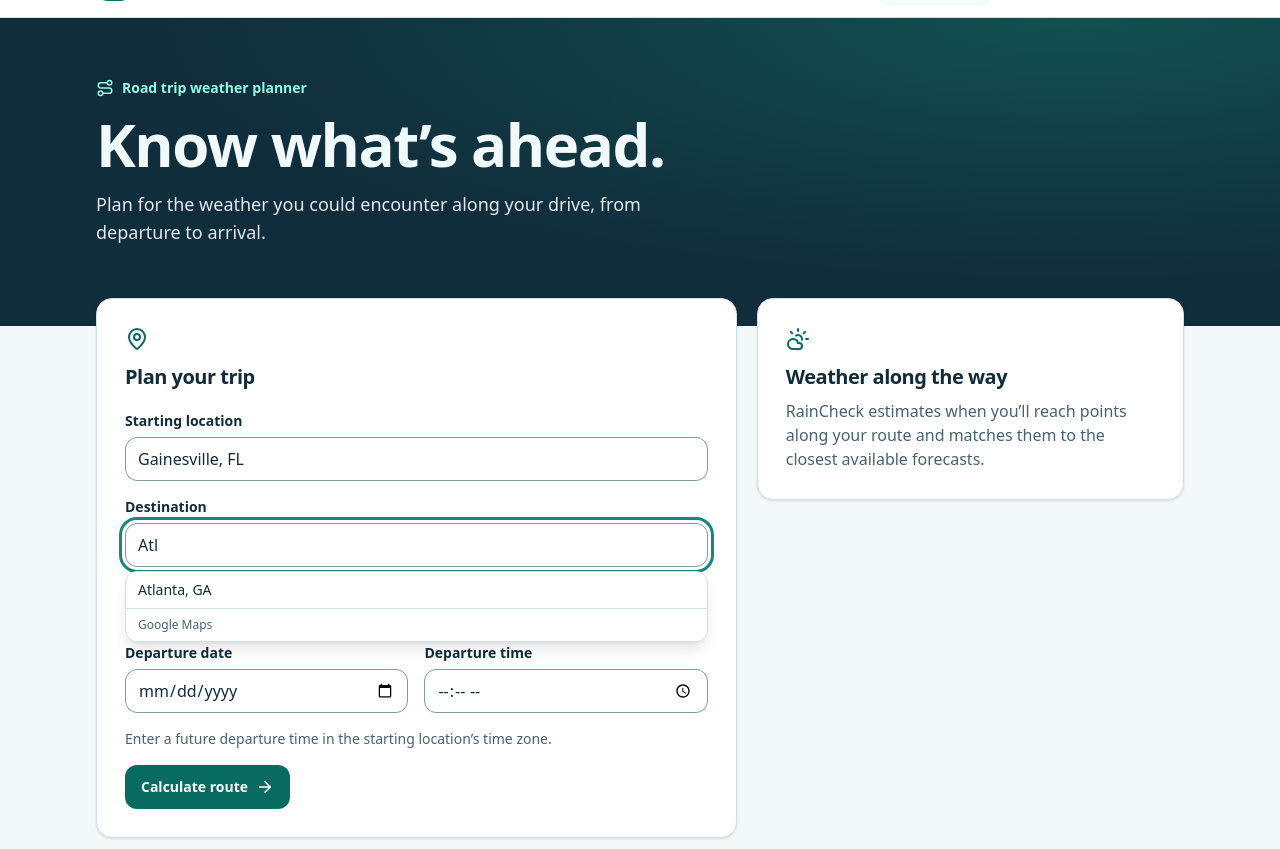
Test: submits selected places and a local departure, then displays and edits the route
Earlier steps of the test are not shown.
Later steps or results of the test are not shown.
Step 1. Click the option "Atlanta, GA" → (175, 590), box [126, 572, 707, 609]
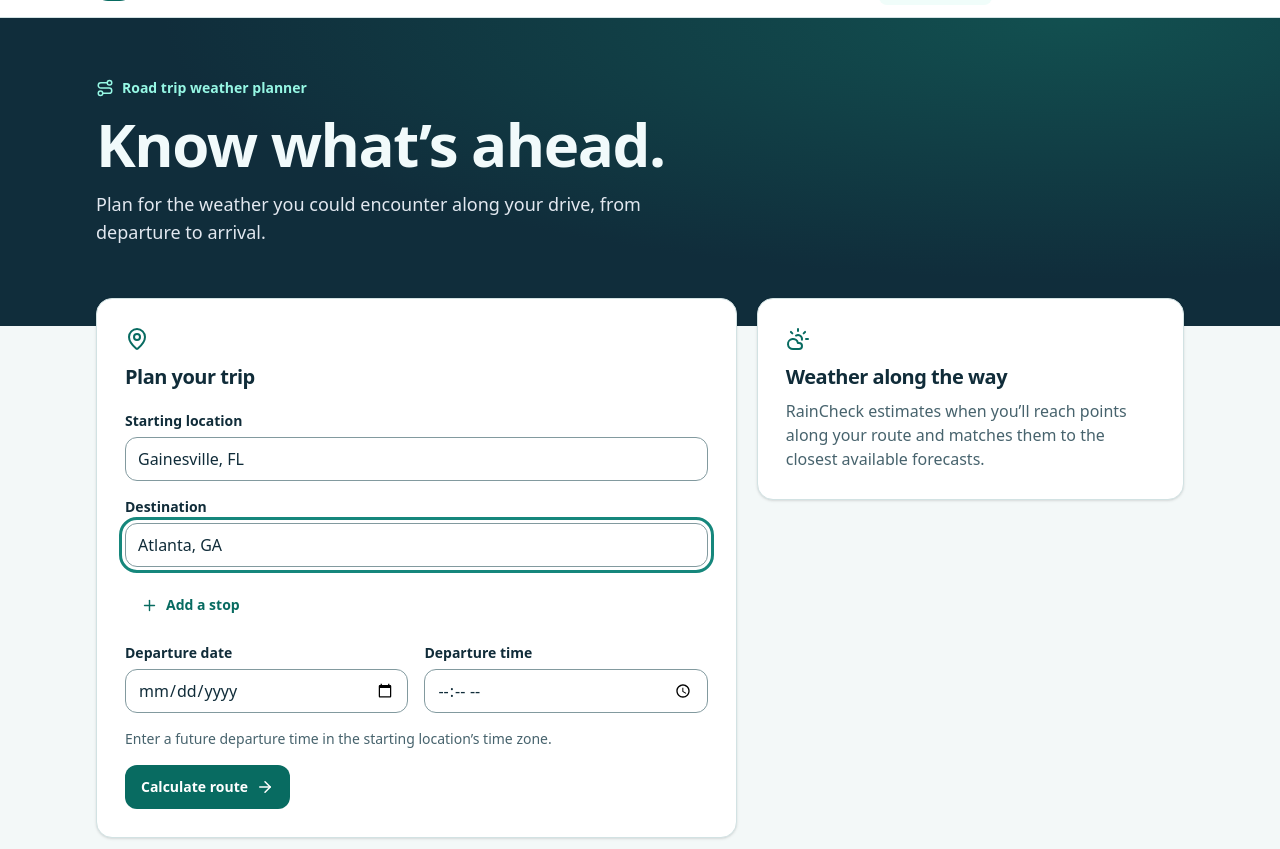
Now the dropdown labelled "Destination" holds "Atlanta, GA", box [125, 523, 708, 567]
Step 2. Type "2030-06-15" into the date field labelled "Departure date" → (267, 691), box [125, 669, 408, 713]
Step 3. Type "23:30" into the time field labelled "Departure time" → (566, 691), box [424, 669, 708, 713]
Step 4. Click the button "Add a stop" → (190, 605), box [125, 583, 256, 627]
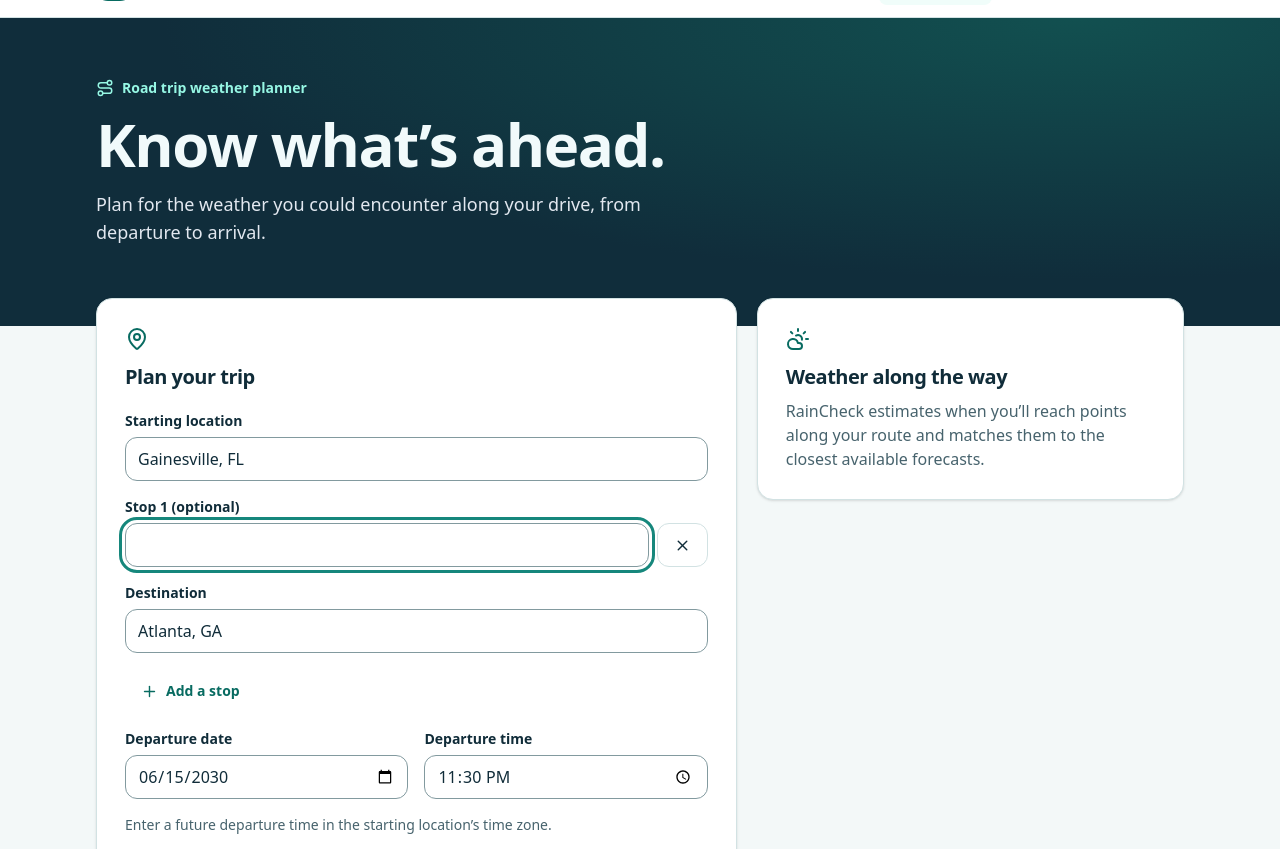
Step 5. Click the button named "Remove stop 1" → (682, 545), box [657, 523, 708, 567]
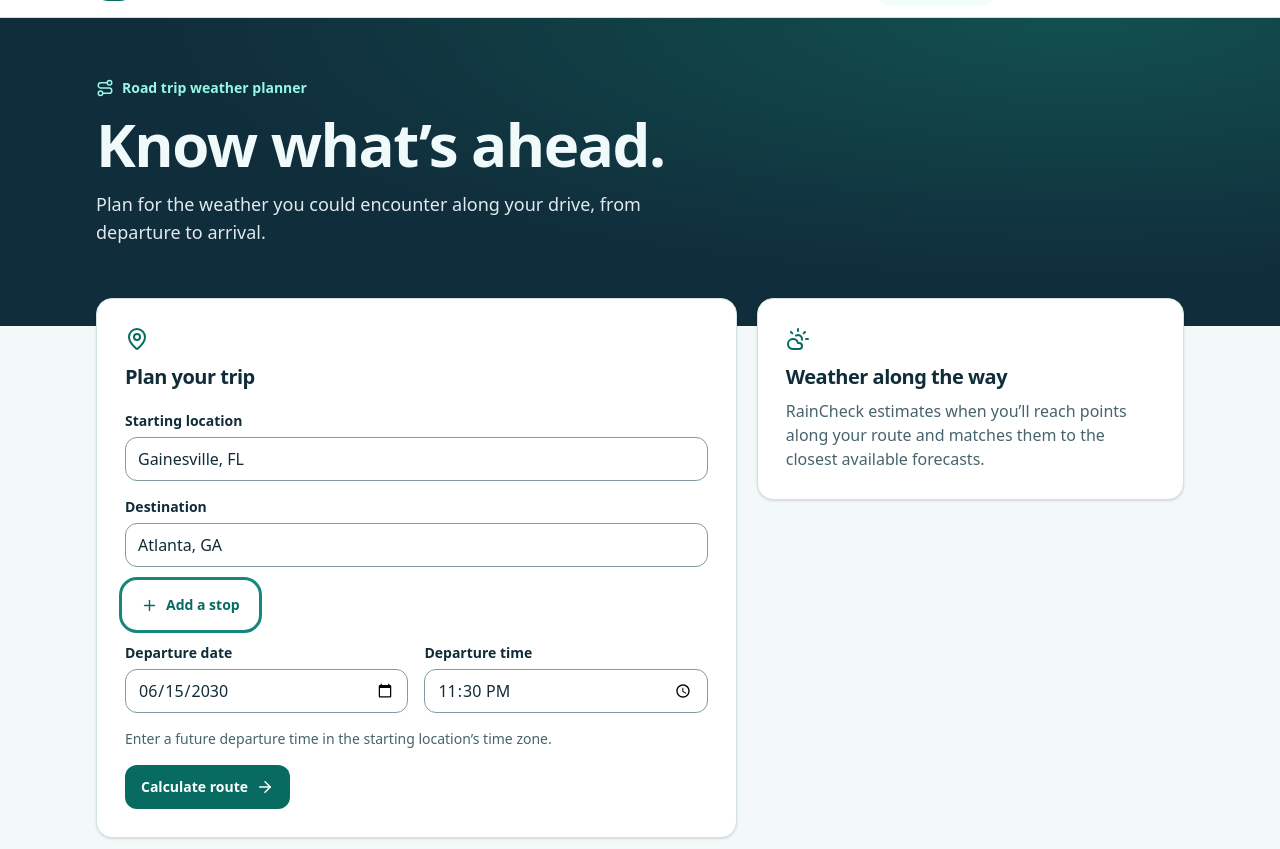
Step 6. Click the button "Add a stop" → (190, 605), box [125, 583, 256, 627]
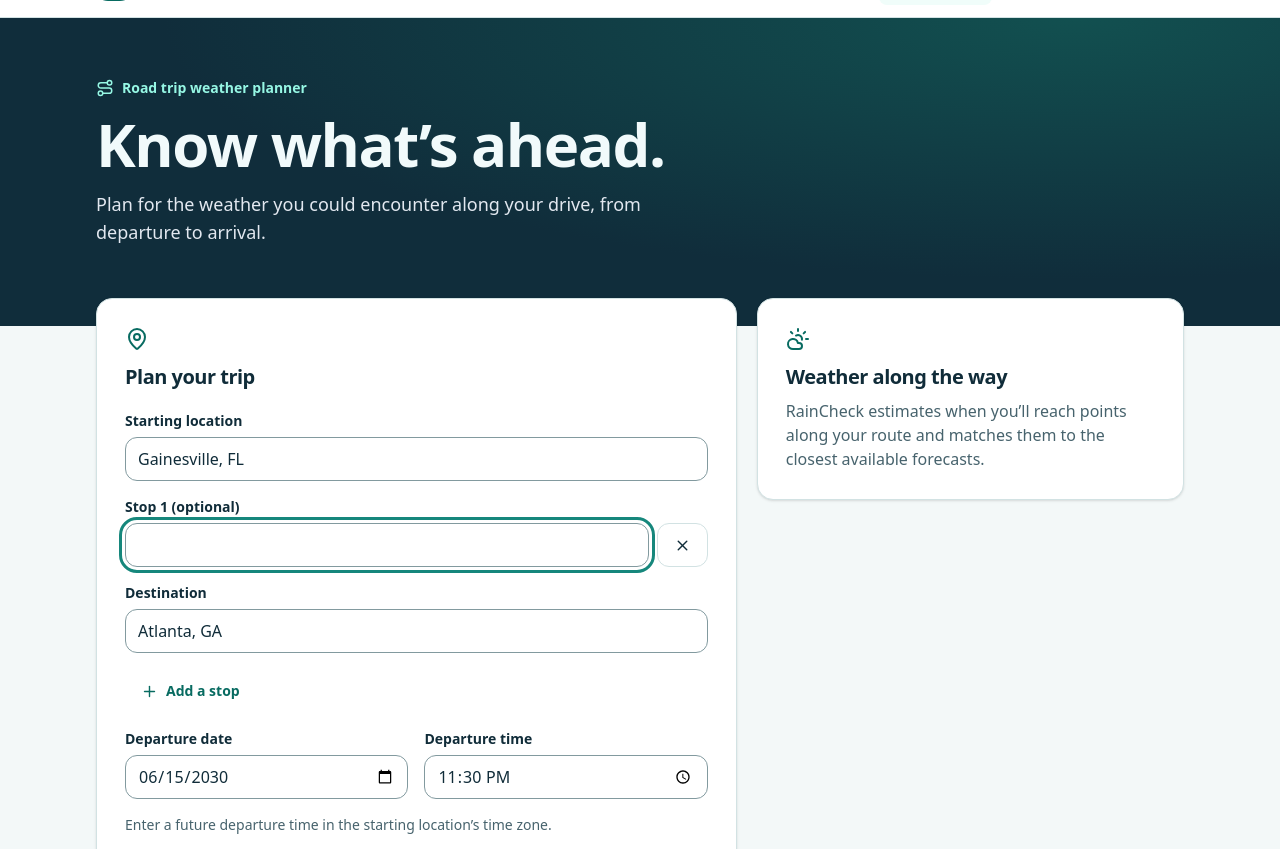
Step 7. Type "Val" into the dropdown labelled "Stop 1 (optional)" → (387, 545), box [125, 523, 649, 567]
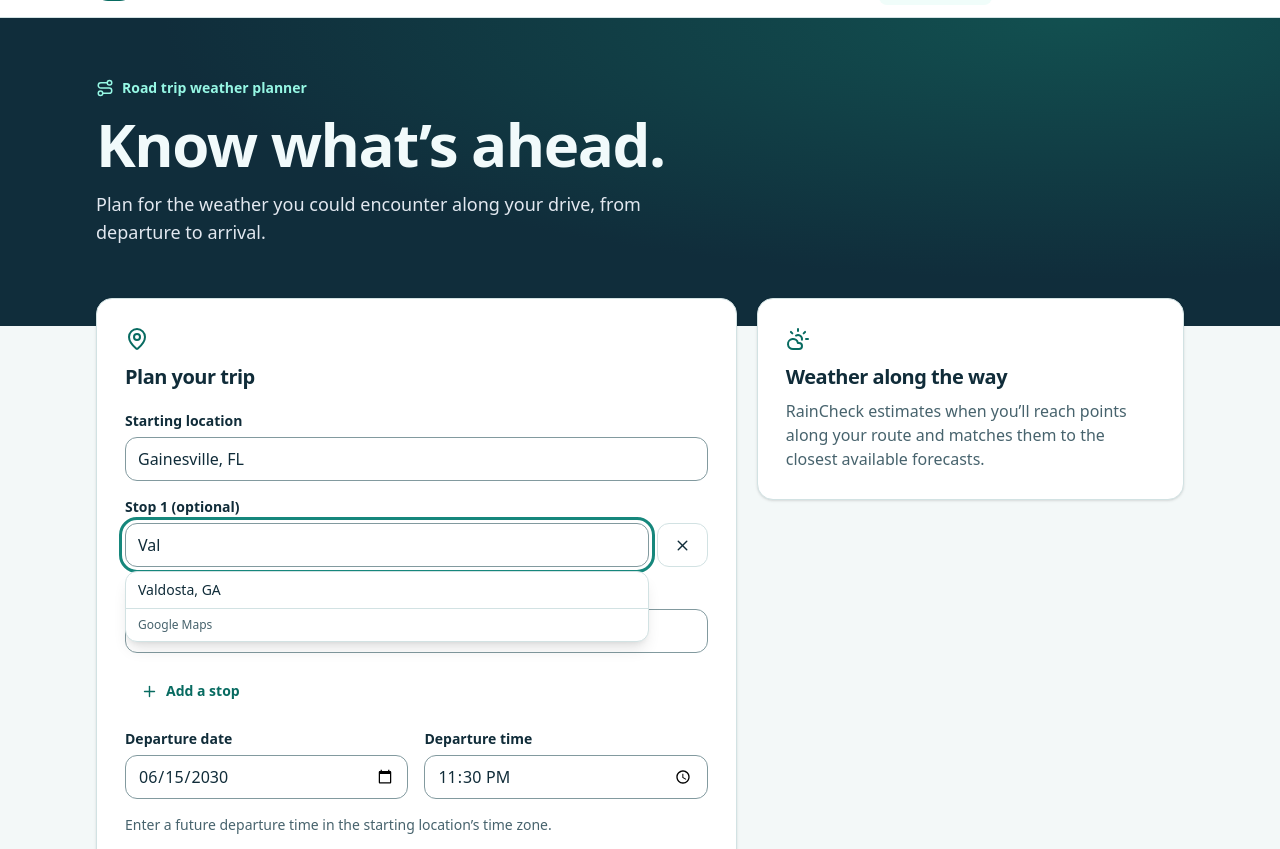
Step 8. Click the option "Valdosta, GA" → (179, 590), box [126, 572, 648, 609]
(page scrolled)
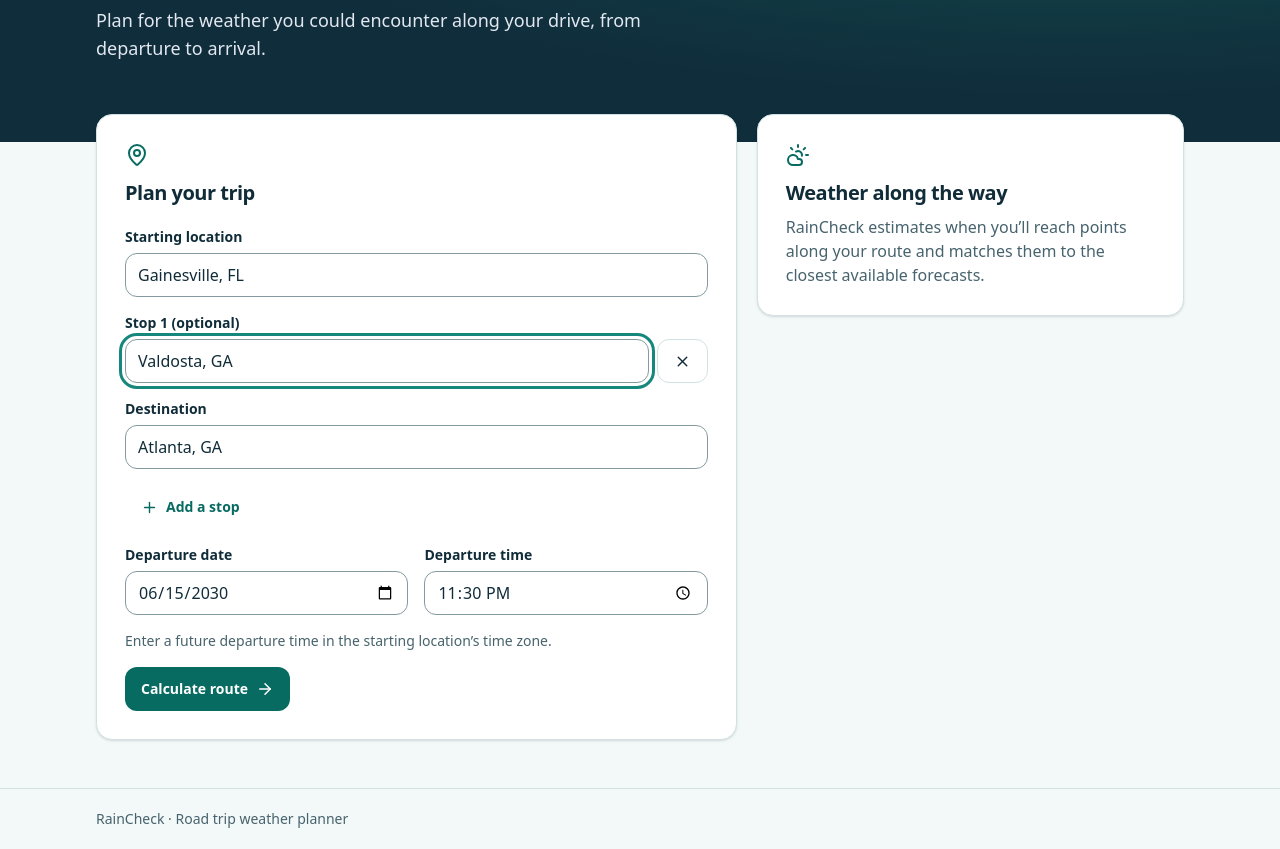
Now the dropdown labelled "Stop 1 (optional)" holds "Valdosta, GA", box [125, 339, 649, 383]
